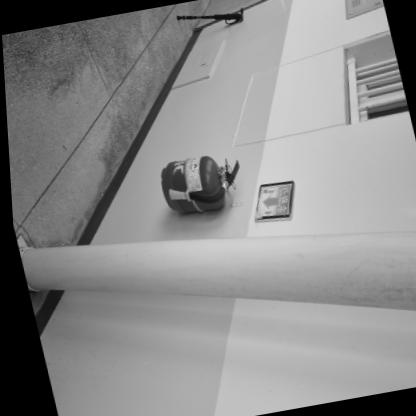FE: (152, 147, 248, 217)
